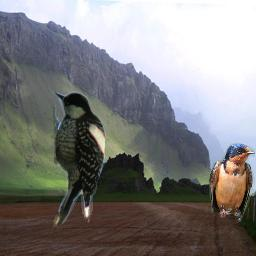Swallow: (209, 143, 255, 223)
Woodpecker: (53, 91, 106, 227)
